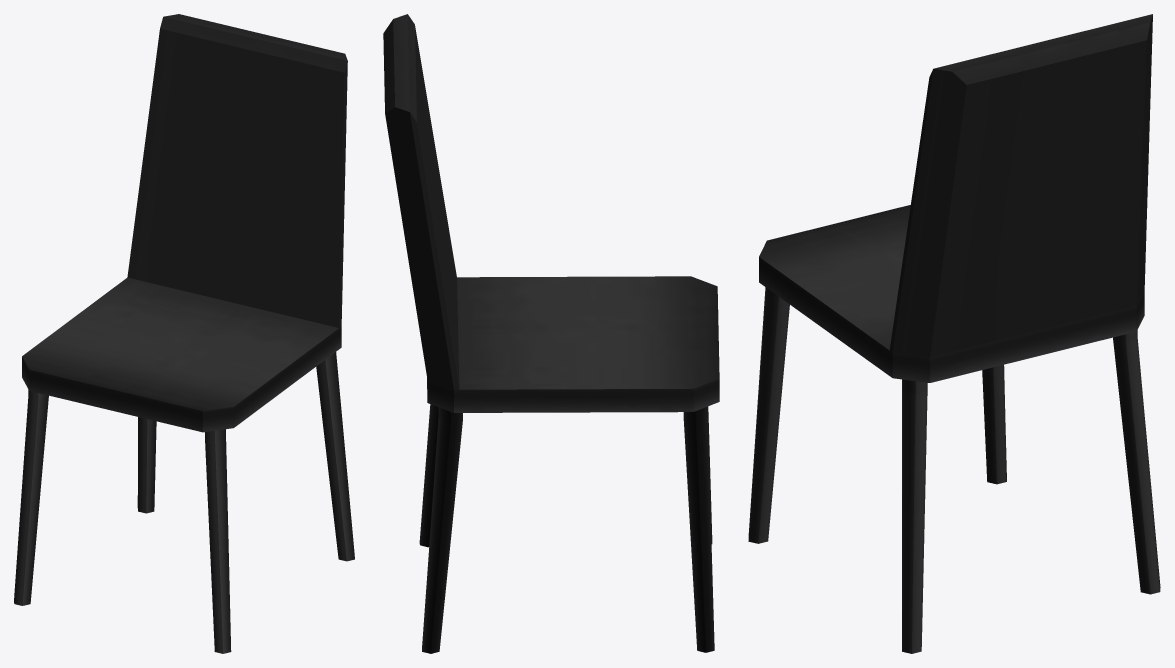
Rendered from CHAIR_CAFE_002.fbx.
3 views of the same model, side by side, from view 1: azimuth 30°, elevation 25°; view 2: azimuth 150°, elevation 25°; view 3: azimuth 270°, elevation 25° (orthographic). The views are drawn at different scales.
Parts seen in each view (by area): view 1: CHAIR_CAFE.002; view 2: CHAIR_CAFE.002; view 3: CHAIR_CAFE.002.
Boxes of the visible parts, left/top/right/bottom form: CHAIR_CAFE.002: left=14, top=14, right=354, bottom=653; CHAIR_CAFE.002: left=383, top=14, right=719, bottom=653; CHAIR_CAFE.002: left=748, top=14, right=1160, bottom=653.
Bounding box in the file's own units: 66.67 × 98.49 × 62.71.
